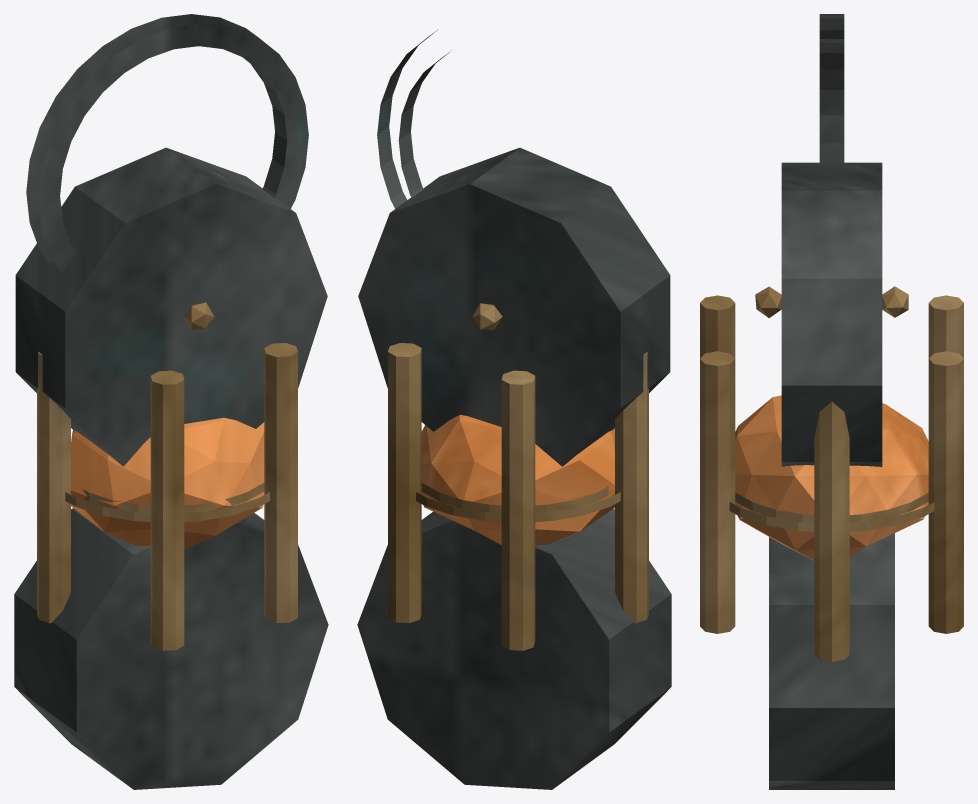
File: 0922_lantern_22.glb
The picture shows the model from 3 angles, left to right: view 1: azimuth 30°, elevation 25°; view 2: azimuth 150°, elevation 25°; view 3: azimuth 270°, elevation 25°; orthographic projection.
Visible parts, largest first — view 1: iron, brass, amber; view 2: iron, brass, amber; view 3: iron, brass, amber.
Part boxes in pixels (x1,y1,x2,y2): iron: [14, 14, 328, 789]; brass: [37, 302, 297, 650]; amber: [71, 417, 264, 549]; iron: [357, 30, 671, 789]; brass: [388, 303, 648, 650]; amber: [421, 415, 614, 545]; iron: [769, 14, 894, 789]; brass: [700, 286, 963, 661]; amber: [735, 395, 928, 560].
Size of the model in its own units: 0.5 by 1.32 by 0.4197.
3 materials, 3 textured.
